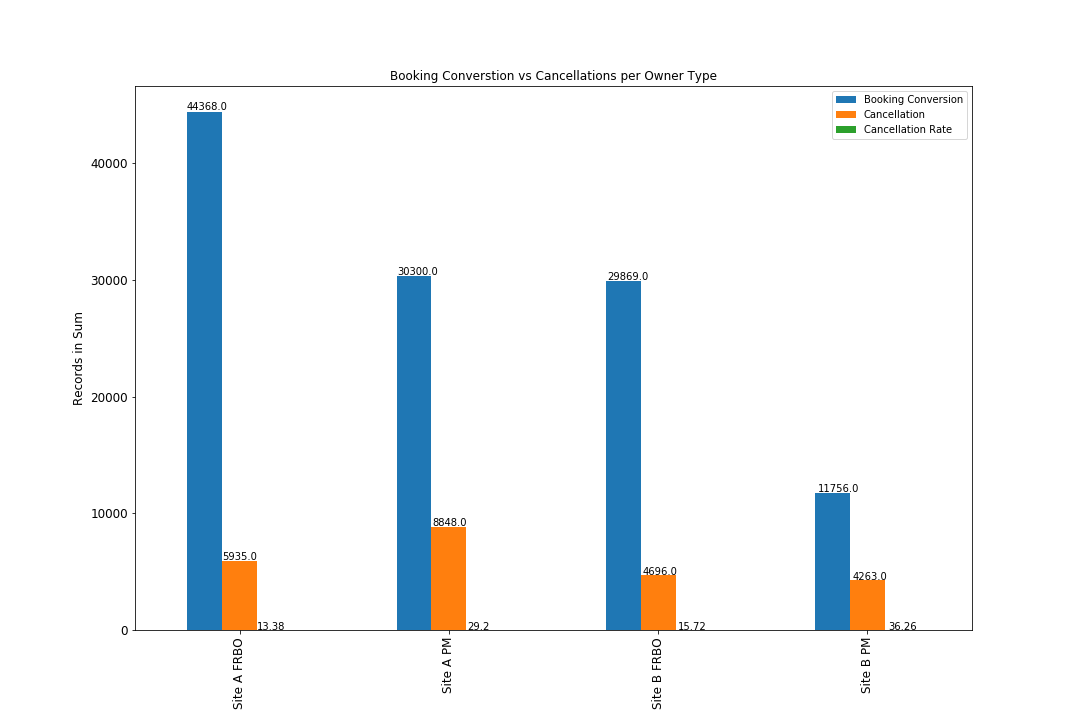

This screenshot's page, from the dashboard's own definition file:
{"tool":"tableau","page":{"name":"BarChart","canvas":[1000,800],"ordinal":1},"visuals":[{"type":"filter","title":"All-Viz-1","param":"[federated.0fqd9971pobdc41fchzsx0ctk5mb].[none:Site:nk]","box":[8,8,143,75]},{"type":"filter","title":"All-Viz-1","param":"[federated.0fqd9971pobdc41fchzsx0ctk5mb].[none:Year of Date Id:nk]","box":[151,8,182,75]},{"type":"filter","title":"All-Viz-1","param":"[federated.0fqd9971pobdc41fchzsx0ctk5mb].[none:Measure Names:nk]","box":[333,8,353,75]},{"type":"filter","title":"All-Viz-1","param":"[federated.0fqd9971pobdc41fchzsx0ctk5mb].[none:Supplier Type:nk]","box":[686,8,146,75]},{"type":"filter","title":"All-Viz-1","param":"[federated.0fqd9971pobdc41fchzsx0ctk5mb].[none:Person Type:nk]","box":[832,8,160,75]},{"type":"worksheet","title":"All-Viz-1","mark":"Automatic","rows":["Measure Names","Person Type","Site","Supplier Type"],"cols":["Measure Values"],"box":[8,83,984,709]}]}

Visuals, with their boxes on the page's 1000x800 design canvas (x1, y1, x2, y2). These are canvas units, not pixel positions in the 1080x720 screenshot, which may show the page scaled, cropped or inside an application window:
"All-Viz-1" filter: crop(8, 8, 151, 83)
"All-Viz-1" filter: crop(151, 8, 333, 83)
"All-Viz-1" filter: crop(333, 8, 686, 83)
"All-Viz-1" filter: crop(686, 8, 832, 83)
"All-Viz-1" filter: crop(832, 8, 992, 83)
"All-Viz-1" worksheet: crop(8, 83, 992, 792)
